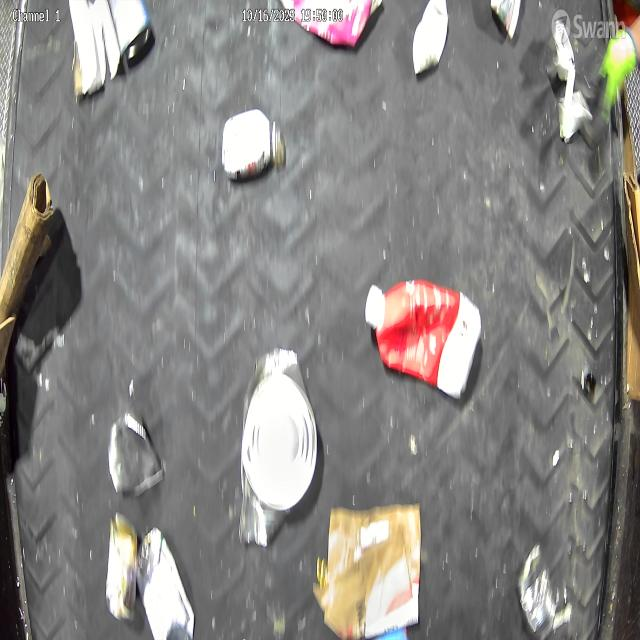can: (237, 344, 319, 545), (137, 524, 196, 640), (107, 406, 165, 495), (516, 542, 557, 640), (104, 512, 140, 622), (108, 0, 152, 62)
non_white_jug: (364, 280, 482, 399)
